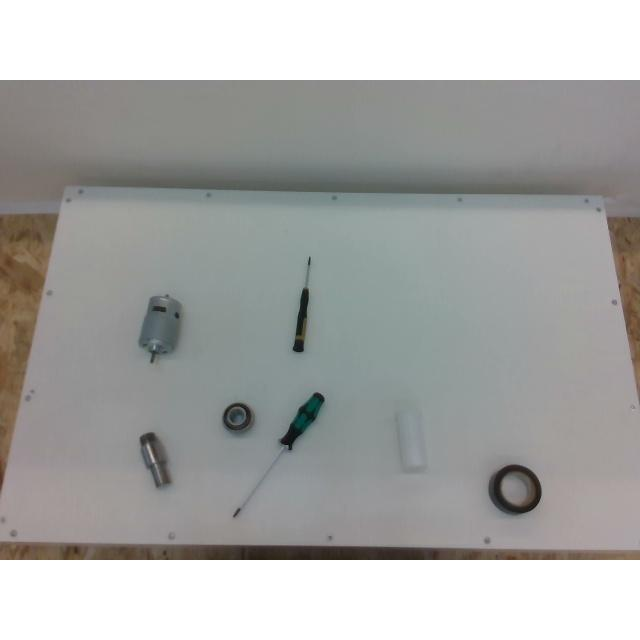Axis2: (138, 432, 170, 488)
Bearing2: (222, 402, 254, 432)
Motor2: (138, 294, 182, 362)
Screwdriver: (232, 392, 324, 516)
Spacer: (396, 408, 426, 472)
